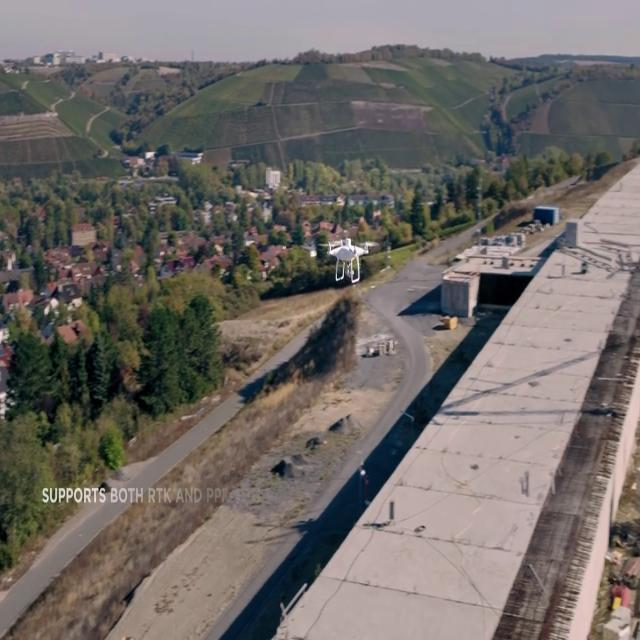drone: (317, 230, 379, 284)
